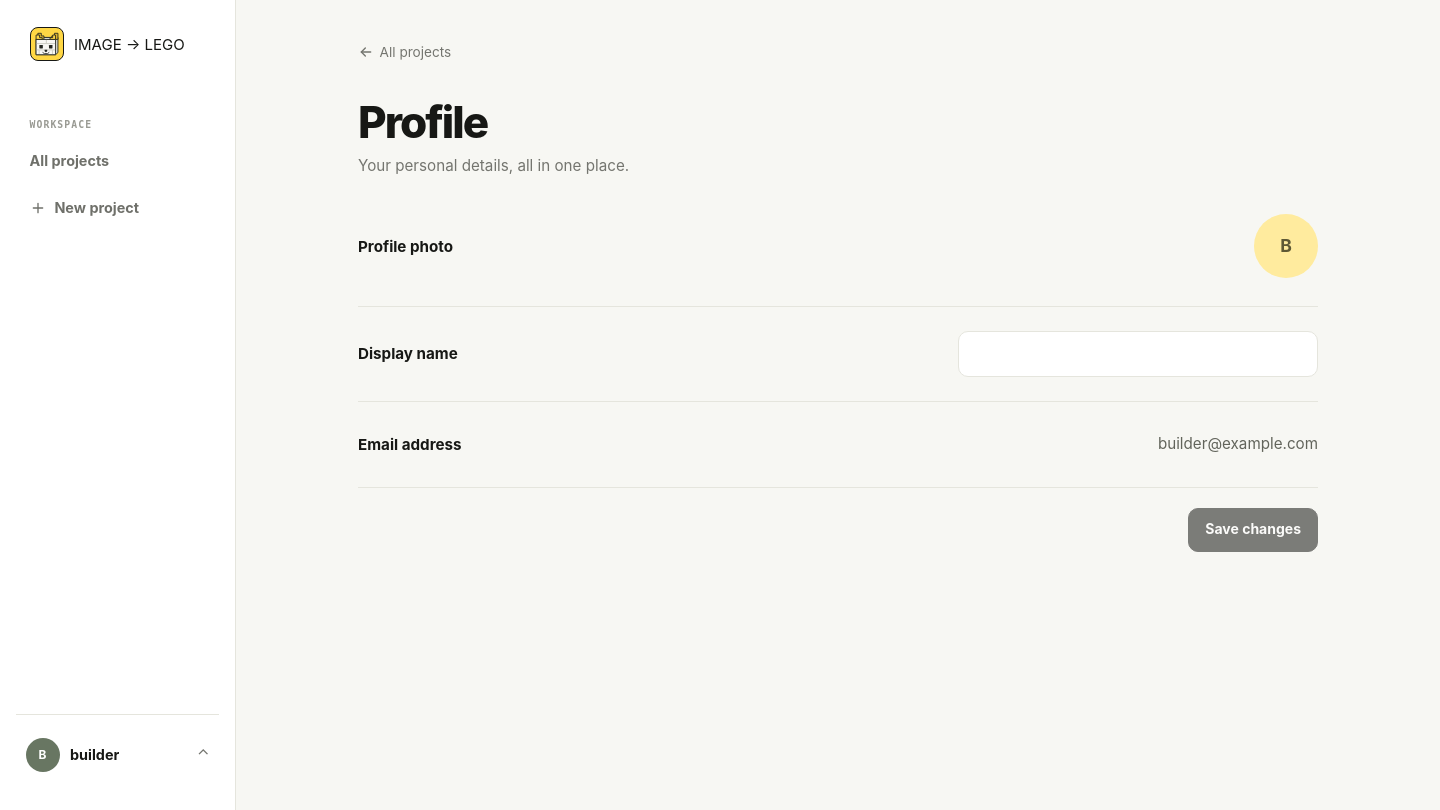
Test: App › reports a successful save separately from a failed session refresh
Type "Reiwen" into the field labelled "Display name" at [1138, 354], box [958,331,1318,377]
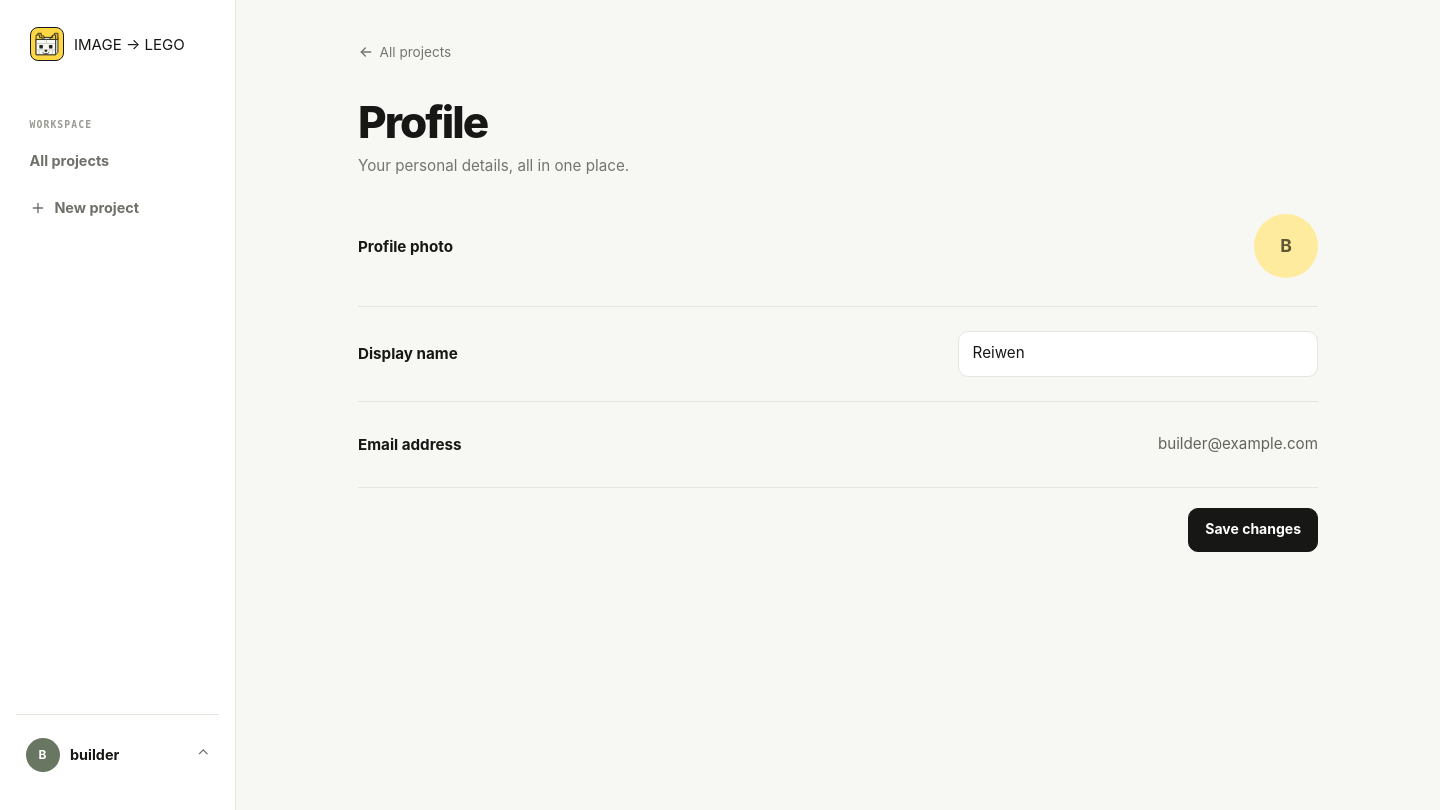
Click the button "Save changes" at [1253, 530], box [1188,508,1318,552]
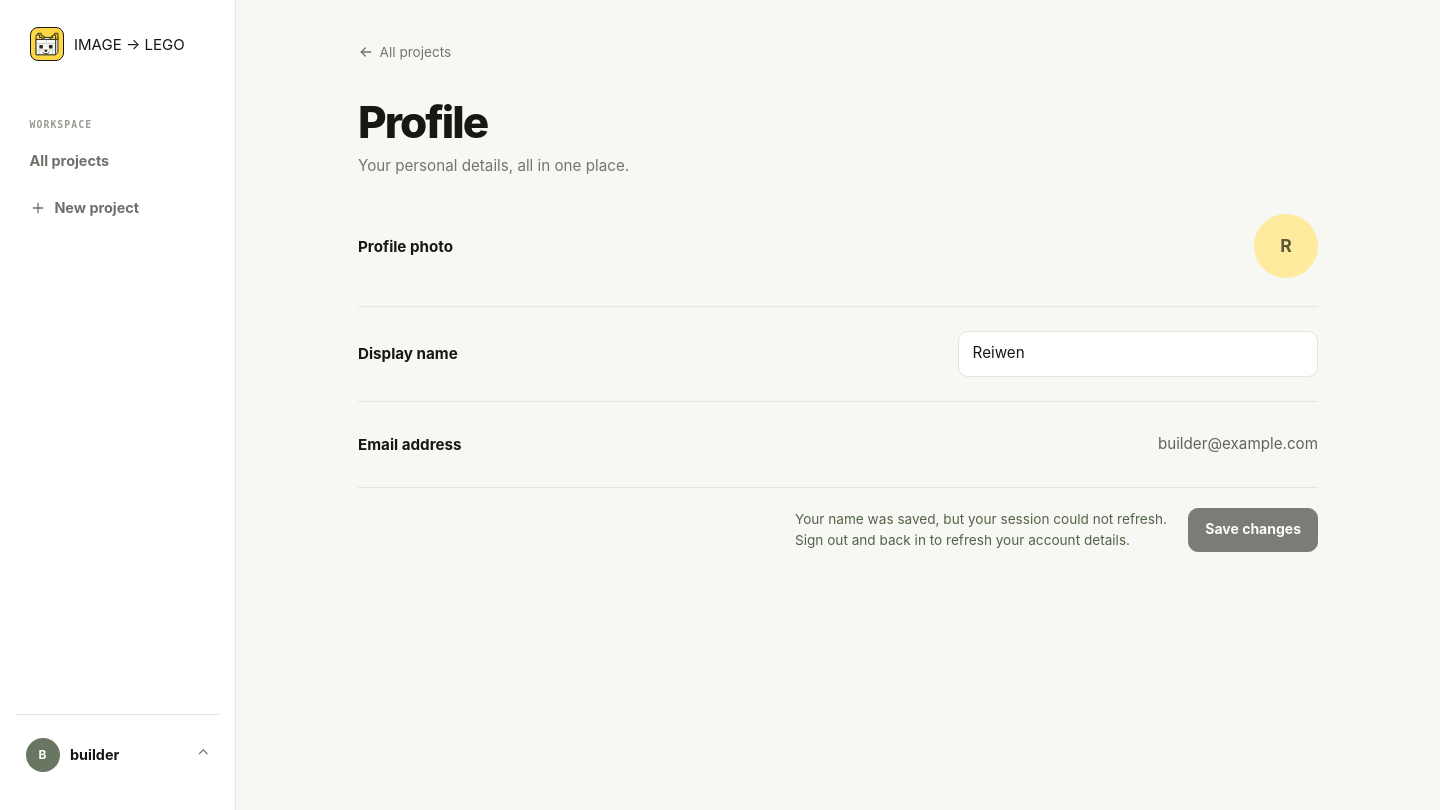
Expected: the text "Your name was saved, but your session could not refresh" is shown, [795,511,1167,548]
